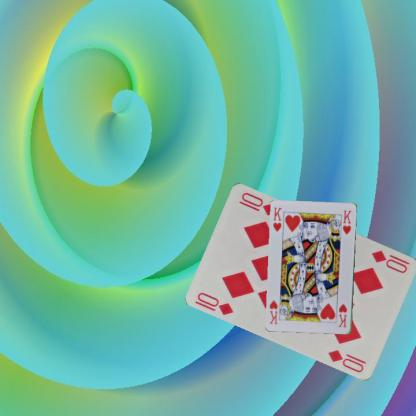10d: (370, 247, 412, 274), (195, 289, 235, 316)
Kh: (271, 205, 283, 234), (336, 301, 348, 329)
